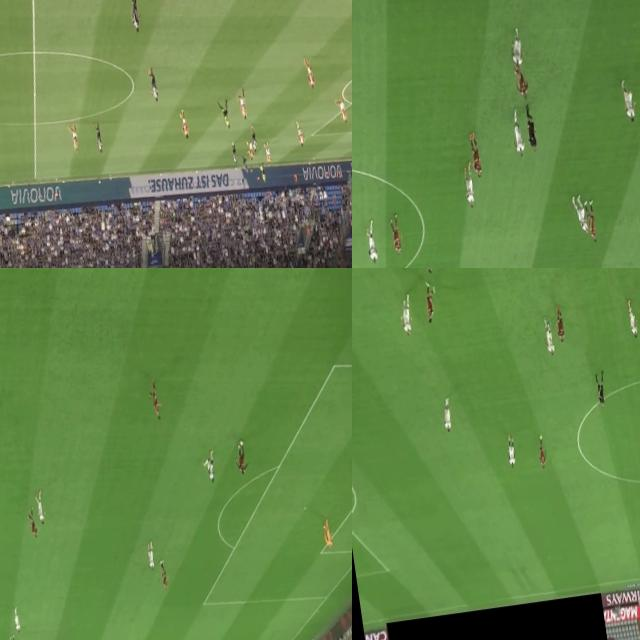ball: (238, 434, 245, 452)
player: (460, 163, 478, 214), (510, 105, 526, 160), (398, 288, 413, 339), (422, 282, 438, 329), (572, 194, 590, 235), (508, 29, 526, 70), (467, 128, 482, 175), (584, 198, 599, 241), (148, 382, 164, 422), (232, 443, 250, 477), (512, 59, 528, 97), (32, 490, 49, 525), (92, 123, 108, 160), (366, 224, 380, 266), (622, 82, 636, 123), (627, 300, 640, 341), (544, 321, 558, 358), (25, 506, 41, 538), (128, 0, 142, 34), (68, 124, 82, 158), (388, 219, 402, 253), (304, 54, 316, 93), (442, 396, 454, 435), (554, 306, 566, 344), (148, 68, 161, 103), (204, 450, 218, 482), (537, 431, 548, 469), (336, 94, 349, 125), (322, 516, 334, 549), (157, 560, 170, 590), (507, 434, 518, 469), (145, 541, 158, 570), (238, 88, 248, 120), (180, 110, 190, 141), (13, 605, 23, 636), (295, 119, 305, 148), (250, 124, 258, 152), (264, 140, 272, 165), (230, 141, 238, 165), (246, 140, 255, 161), (242, 154, 250, 176)
